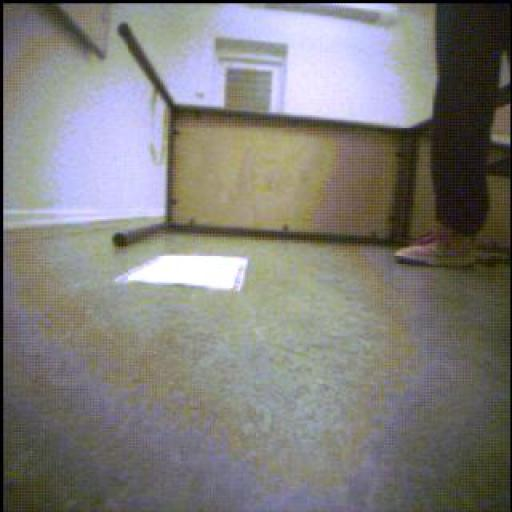Pad: (116, 257, 249, 292)
